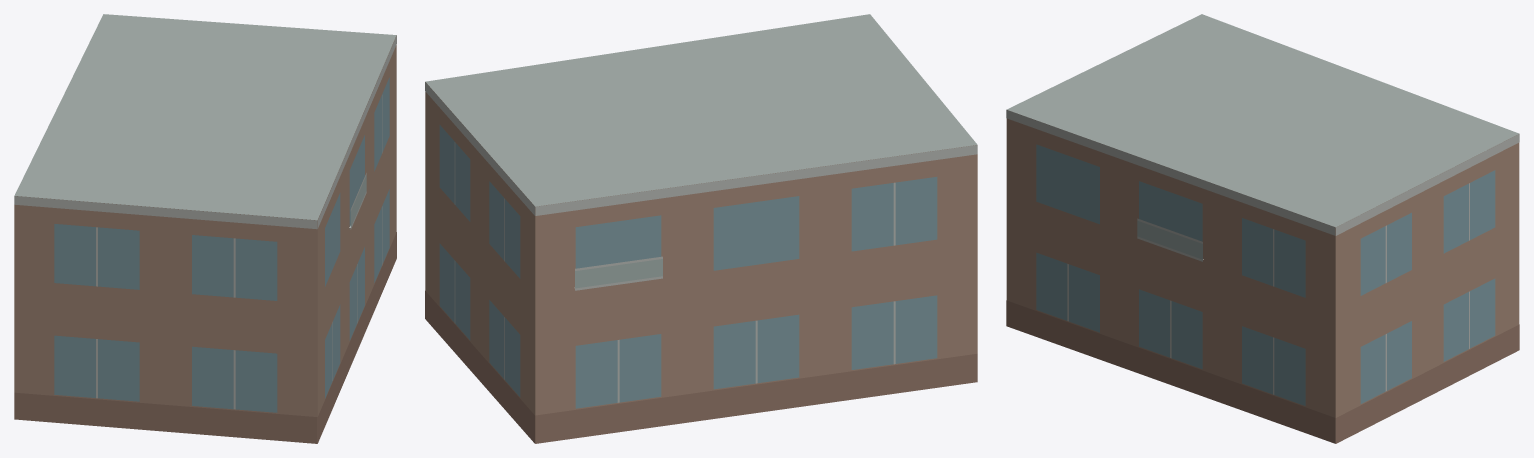
The model's file is survey-upis-32695710.glb.
3 renders of one model, left to right at view 1: azimuth 30°, elevation 25°; view 2: azimuth 150°, elevation 25°; view 3: azimuth 270°, elevation 25°, orthographic. The views are drawn at different scales.
Parts seen in each view (by area): view 1: survey-upis-32695710.tmp; view 2: survey-upis-32695710.tmp; view 3: survey-upis-32695710.tmp.
Boxes of the visible parts, bbox=[...] form: survey-upis-32695710.tmp: bbox=[14, 14, 396, 443]; survey-upis-32695710.tmp: bbox=[425, 14, 977, 443]; survey-upis-32695710.tmp: bbox=[1006, 14, 1519, 443].
Bounding box in the file's own units: 12.9 × 6.1 × 13.11.
